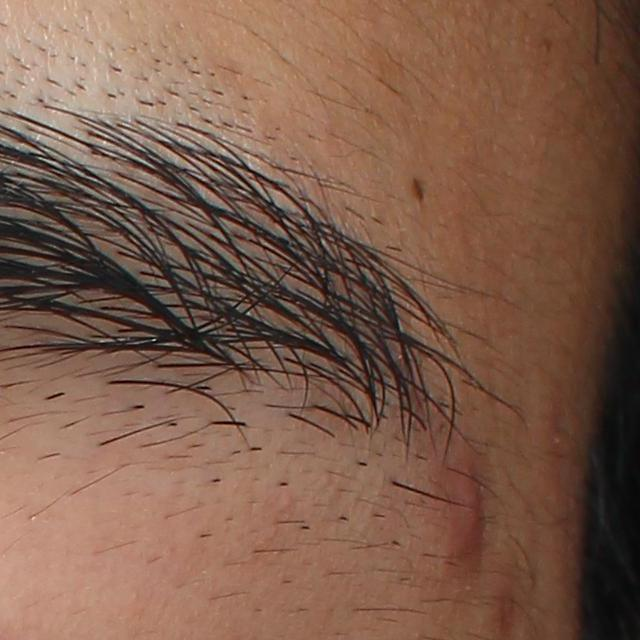nevus: (410, 175, 430, 212)
papule: (449, 465, 492, 555)
